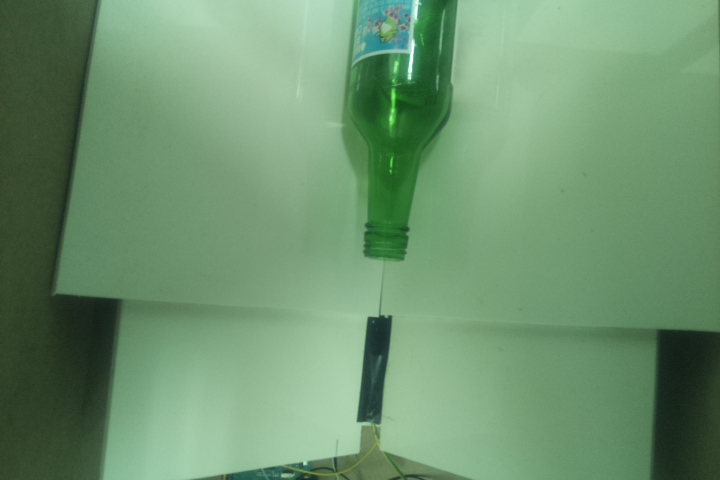soju: (342, 1, 466, 264)
